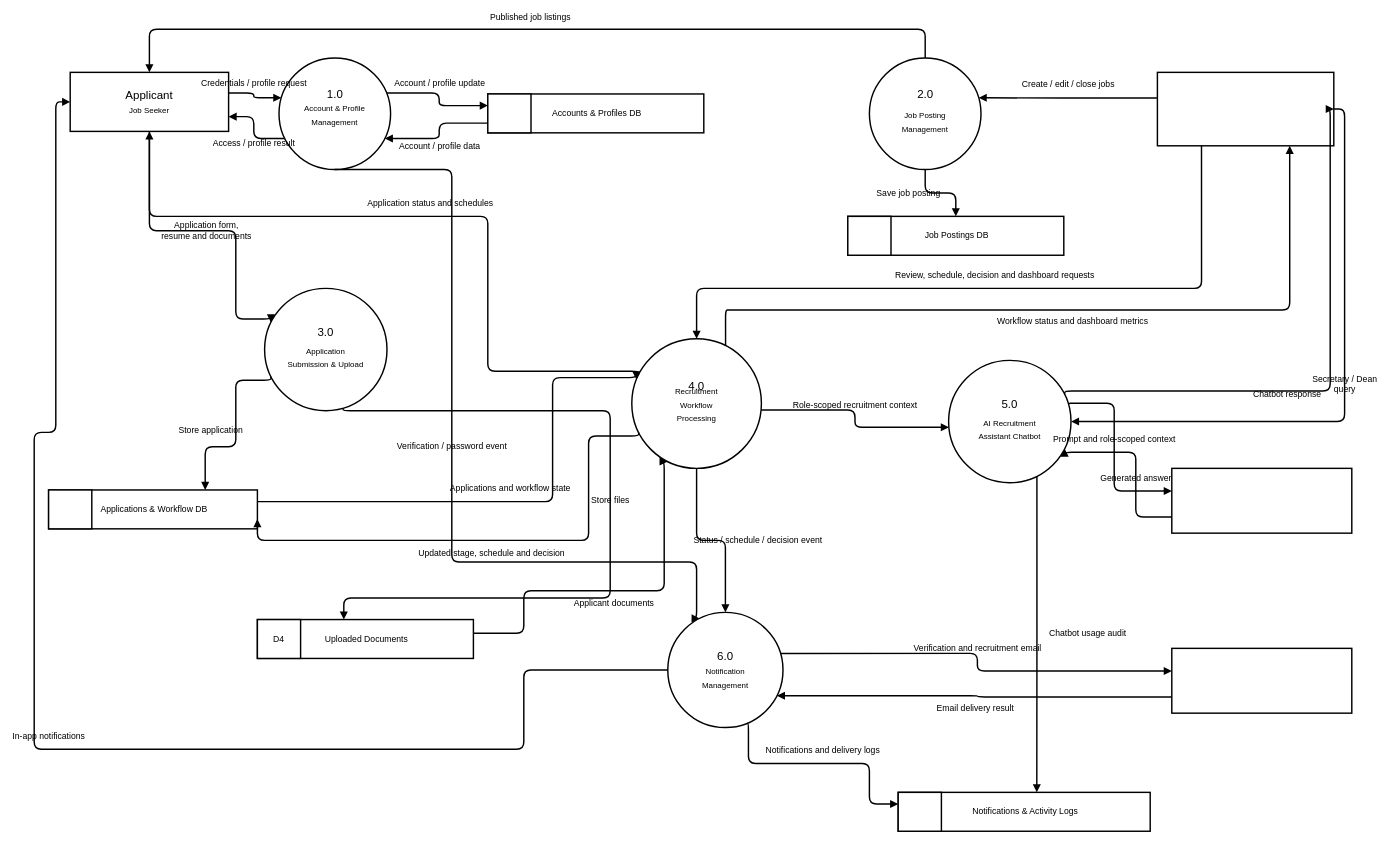
This 1390x844 diagram has some shape labels left out. The shapes that lost their labels are listed below. From the top down, each one's centre as x and y in pixels, then its label:
[509,113]: D1
[1245,108]: Recruitment Staff Administrator / Secretary / Dean
[869,235]: D2
[70,509]: D3
[1261,500]: Groq AI Service Recruitment Chatbot Only
[1261,680]: Email / Notification Service
[919,811]: D5
